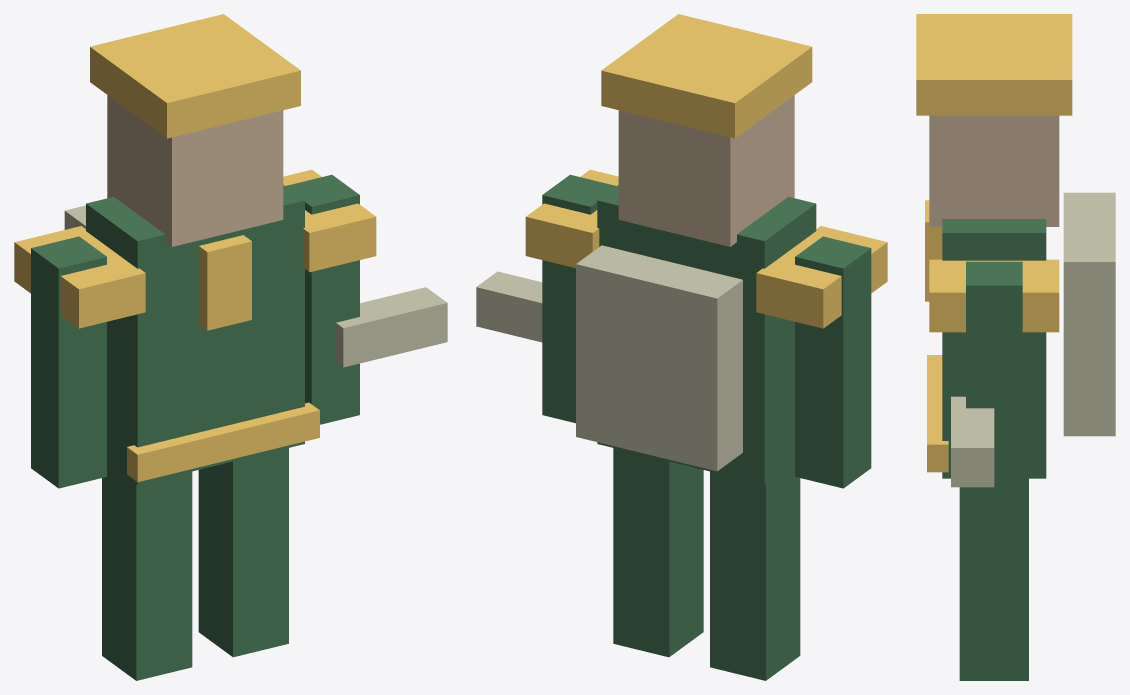
The model's file is 17_rook_echohand_oracle_under.glb.
3 renders of one model, left to right at view 1: azimuth 30°, elevation 25°; view 2: azimuth 150°, elevation 25°; view 3: azimuth 270°, elevation 25°, orthographic.
Visible parts, largest first — view 1: Rook Echohand, Oracle under; view 2: Rook Echohand, Oracle under; view 3: Rook Echohand, Oracle under.
Boxes of the visible parts, left/top/right/bottom form: Rook Echohand, Oracle under: left=14, top=14, right=447, bottom=680; Rook Echohand, Oracle under: left=476, top=14, right=887, bottom=680; Rook Echohand, Oracle under: left=916, top=14, right=1115, bottom=680.
Bounding box in the file's own units: 0.9537 × 1.41 × 0.428.
